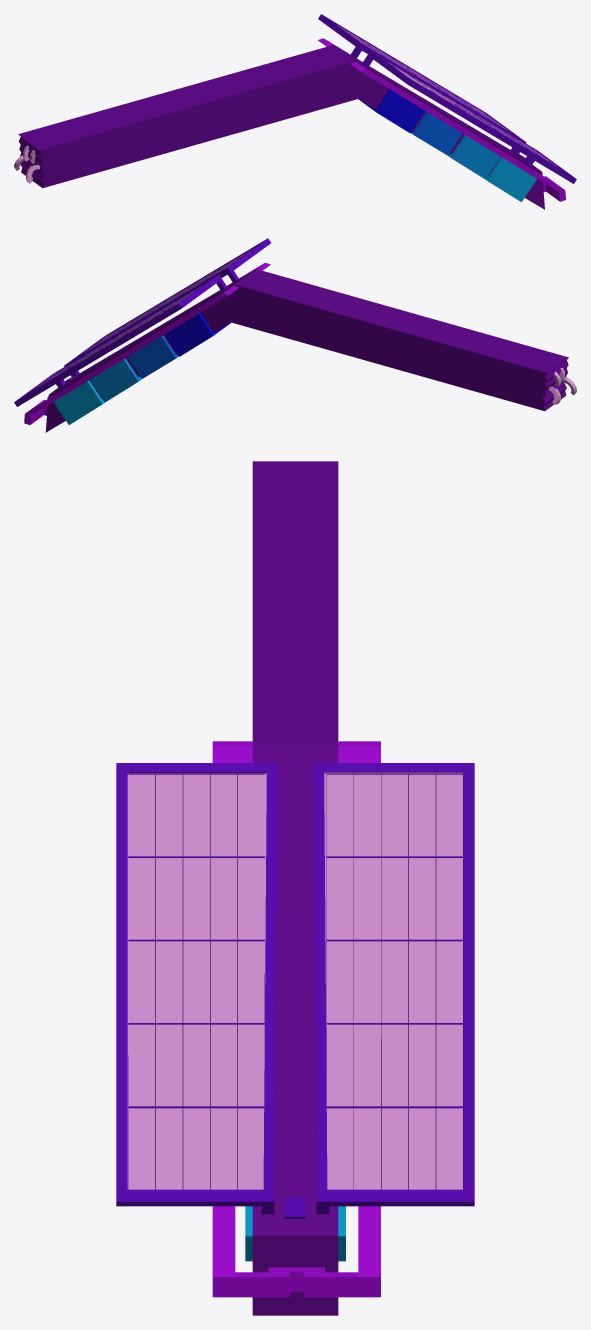
The model's file is SECOND_PART_OF_brokrn_futuristic_lamp.fbx.
3 views of the same model, one above another, from view 1: azimuth 30°, elevation 25°; view 2: azimuth 150°, elevation 25°; view 3: azimuth 270°, elevation 25° (orthographic). The views are drawn at different scales.
Parts seen in each view (by area): view 1: Cube.001; view 2: Cube.001; view 3: Cube.001.
Boxes of the visible parts, box(x1,y1,x2,y2) form: Cube.001: box(14, 14, 576, 209); Cube.001: box(14, 238, 576, 432); Cube.001: box(116, 461, 474, 1315).
Bounding box in the file's own units: 444 × 158 × 132.
